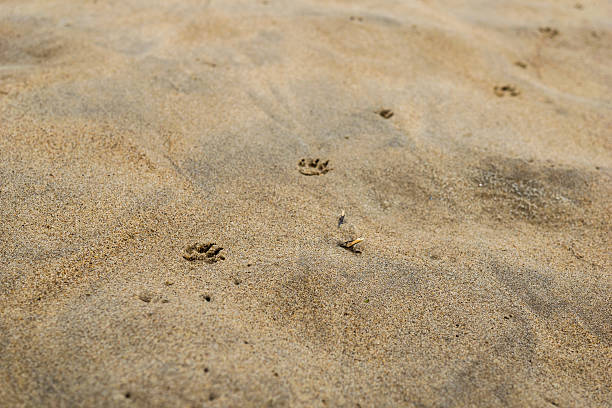animal_foot_print: (183, 242, 224, 263), (298, 158, 330, 175), (494, 85, 519, 96), (538, 27, 558, 38)
